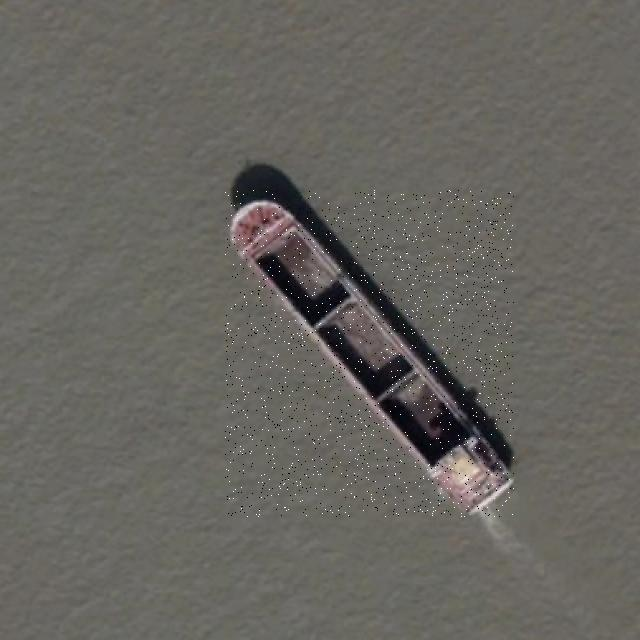boat: (225, 190, 514, 517)
